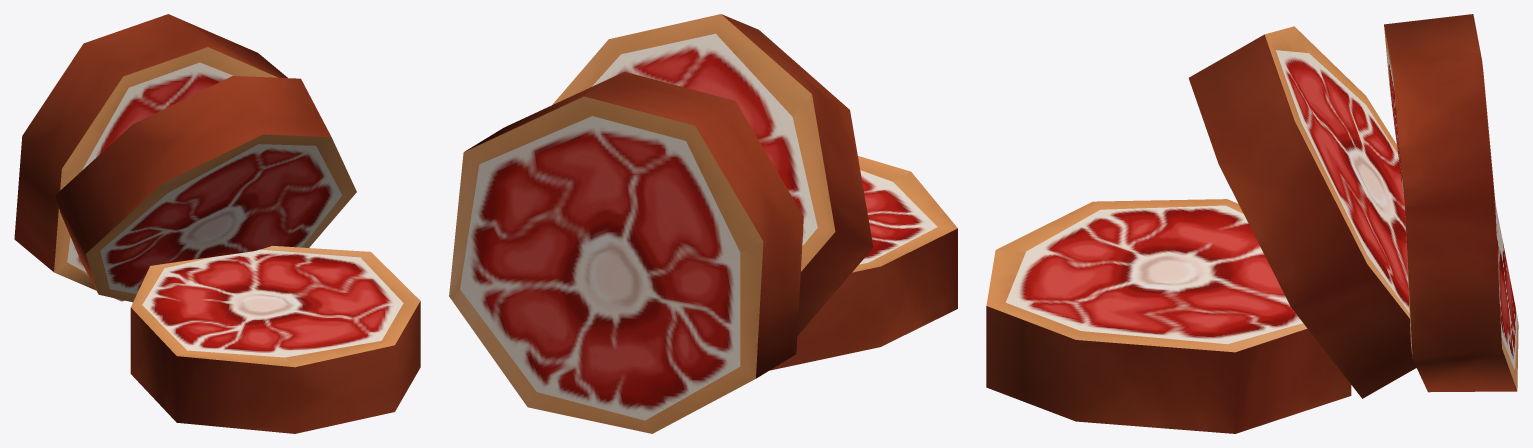
The model's file is SM_PROP_food_meat_03.FBX.
3 views of the same model, side by side, from view 1: azimuth 30°, elevation 25°; view 2: azimuth 150°, elevation 25°; view 3: azimuth 270°, elevation 25° (orthographic). The views are drawn at different scales.
Parts seen in each view (by area): view 1: SM_PROP_food_meat_03; view 2: SM_PROP_food_meat_03; view 3: SM_PROP_food_meat_03.
Part boxes in pixels (x1=…): SM_PROP_food_meat_03: x1=14, y1=14, x2=420, y2=433; SM_PROP_food_meat_03: x1=449, y1=14, x2=957, y2=433; SM_PROP_food_meat_03: x1=986, y1=14, x2=1518, y2=433.
Bounding box in the file's own units: 42.19 × 58.36 × 40.5.
